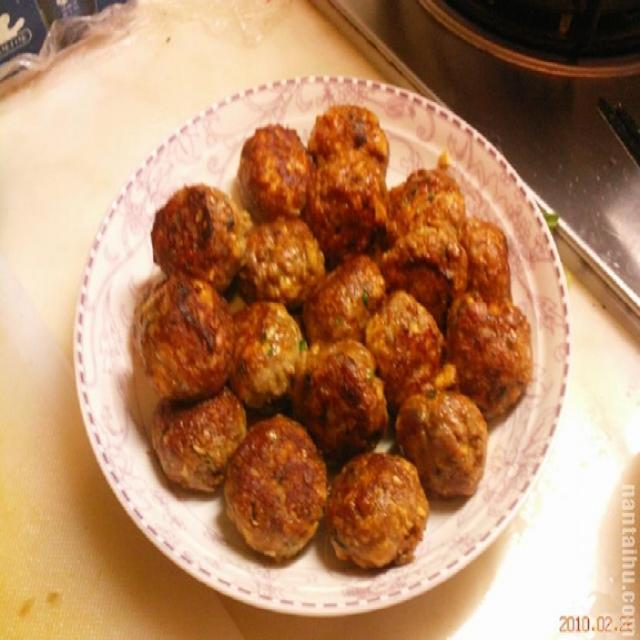Meatball: (109, 264, 242, 404), (212, 415, 336, 565), (434, 282, 547, 420), (284, 327, 393, 462), (323, 445, 436, 573), (142, 179, 254, 293), (300, 134, 390, 250), (382, 217, 472, 331), (231, 121, 317, 222)
